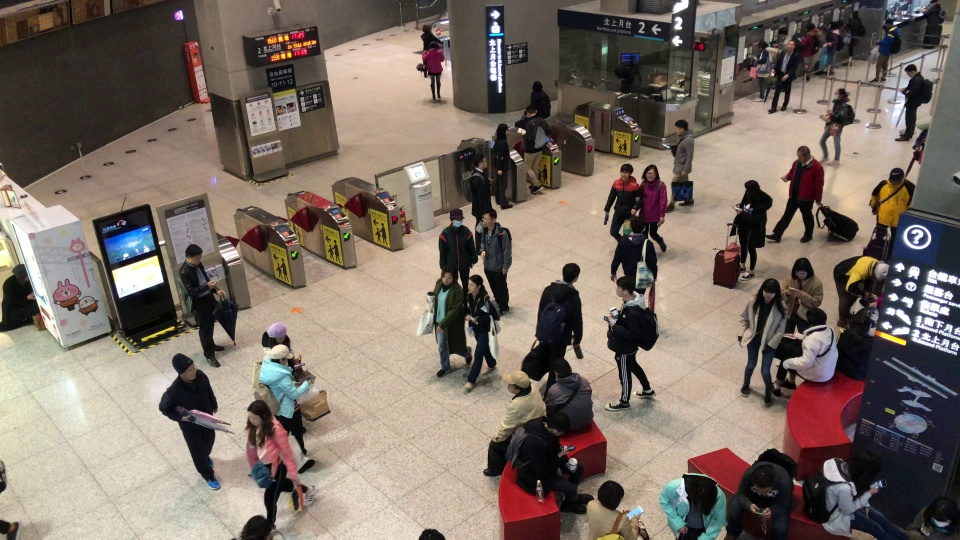person_head: (849, 449, 880, 488), (597, 479, 625, 511), (246, 400, 272, 428), (750, 466, 774, 496), (930, 500, 954, 528), (172, 352, 196, 378), (505, 370, 530, 394), (546, 412, 570, 436), (692, 481, 718, 503), (758, 278, 781, 302), (791, 257, 815, 279), (267, 322, 288, 343), (805, 307, 827, 327), (269, 344, 290, 364), (615, 275, 633, 298), (184, 244, 202, 265), (562, 262, 580, 283), (553, 358, 572, 377), (642, 163, 660, 182), (467, 273, 484, 293), (11, 263, 29, 281), (440, 265, 456, 285), (888, 167, 905, 185), (449, 208, 465, 227), (418, 525, 438, 540), (874, 260, 888, 281), (743, 179, 760, 196), (630, 217, 646, 235), (483, 208, 498, 227), (472, 153, 488, 169), (618, 163, 634, 179), (795, 145, 811, 161), (674, 119, 689, 134), (495, 123, 509, 138), (904, 63, 917, 78), (833, 87, 846, 100), (532, 81, 543, 92), (805, 21, 816, 32), (778, 27, 788, 39), (526, 106, 537, 116), (884, 18, 894, 28), (421, 23, 432, 32), (757, 40, 767, 49), (828, 21, 838, 30), (850, 10, 859, 19), (786, 40, 794, 50), (430, 41, 438, 48)
person_vbox: (801, 447, 909, 539), (245, 400, 318, 535), (505, 412, 595, 516), (157, 352, 222, 490), (252, 344, 315, 473), (602, 276, 659, 411), (482, 369, 547, 477), (534, 262, 583, 400), (735, 278, 788, 405), (726, 448, 799, 538), (176, 244, 228, 368), (770, 307, 838, 398), (252, 323, 307, 434), (764, 145, 825, 242), (776, 257, 824, 367), (425, 266, 472, 377), (462, 273, 501, 393), (437, 208, 480, 316), (658, 473, 727, 540), (868, 166, 916, 261), (831, 255, 889, 330), (729, 179, 772, 280), (584, 479, 651, 540), (610, 216, 658, 297), (544, 358, 594, 433), (479, 208, 513, 318), (460, 153, 492, 255), (603, 163, 642, 243), (894, 63, 933, 140), (818, 87, 855, 165), (665, 119, 695, 214), (520, 106, 551, 195), (638, 163, 668, 254), (0, 264, 38, 332), (767, 39, 801, 114), (905, 496, 959, 540), (867, 18, 902, 84), (490, 123, 515, 210), (771, 26, 803, 93), (751, 39, 778, 102), (840, 10, 867, 67), (421, 40, 445, 104), (797, 22, 822, 82), (419, 23, 445, 77), (821, 20, 845, 77), (530, 80, 551, 119), (922, 0, 946, 23)
